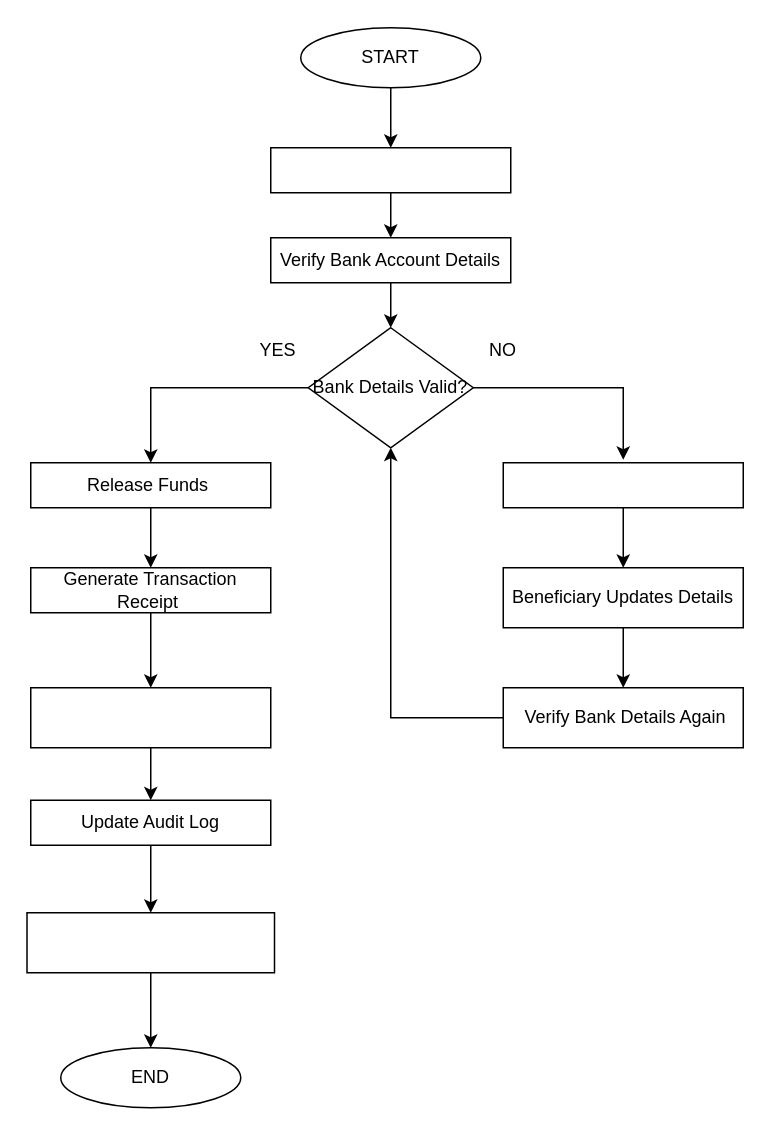
The diagram is 770 pixels wide and 1136 high, and some of its shapes have lost their labels. The shapes that lost their labels are listed below. From the top down, each one's centre as x and y in pixels, then its label:
At pixel 390 169: "Approved Application Received".
At pixel 622 484: "Request Bank Details Update".
At pixel 150 717: "Update Disbursement Status".
At pixel 150 942: "Notify Beneficiary".
